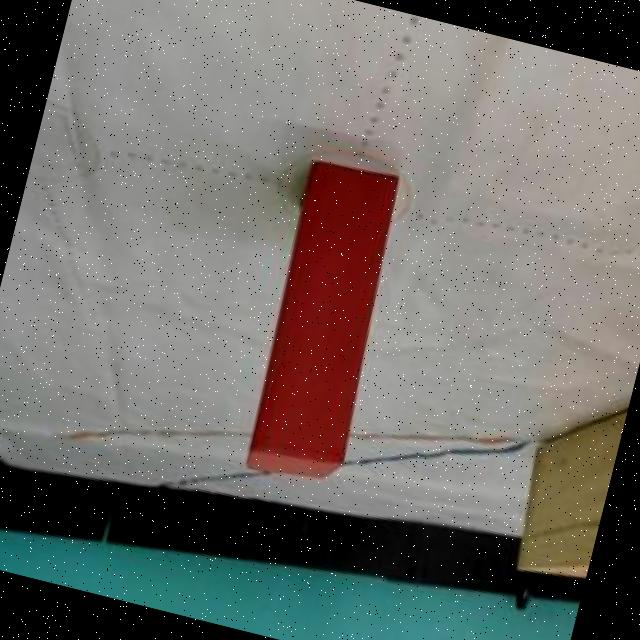redbox: (237, 157, 413, 490)
